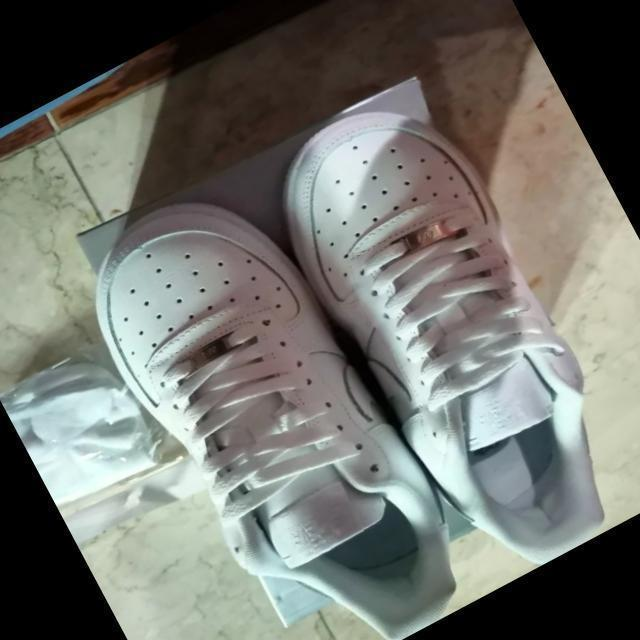nike fake air force: (50, 149, 490, 640), (242, 61, 640, 598)
